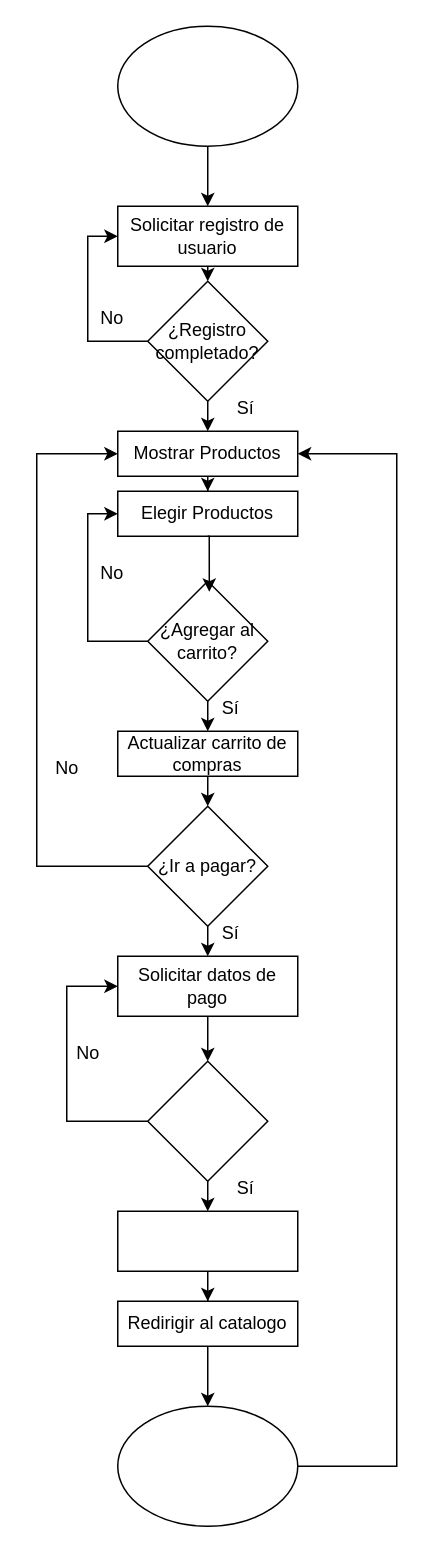
Some shapes in this 435 by 1553 pixel diagram are drawn without their labels. The shapes that lost their labels are listed below. From the top down, each one's centre as x and y in pixels, then its label:
pixel 207 85: Entrar a la página
pixel 207 1120: ¿Datos Completos?
pixel 207 1240: Procesar pago
pixel 207 1465: Fin.
